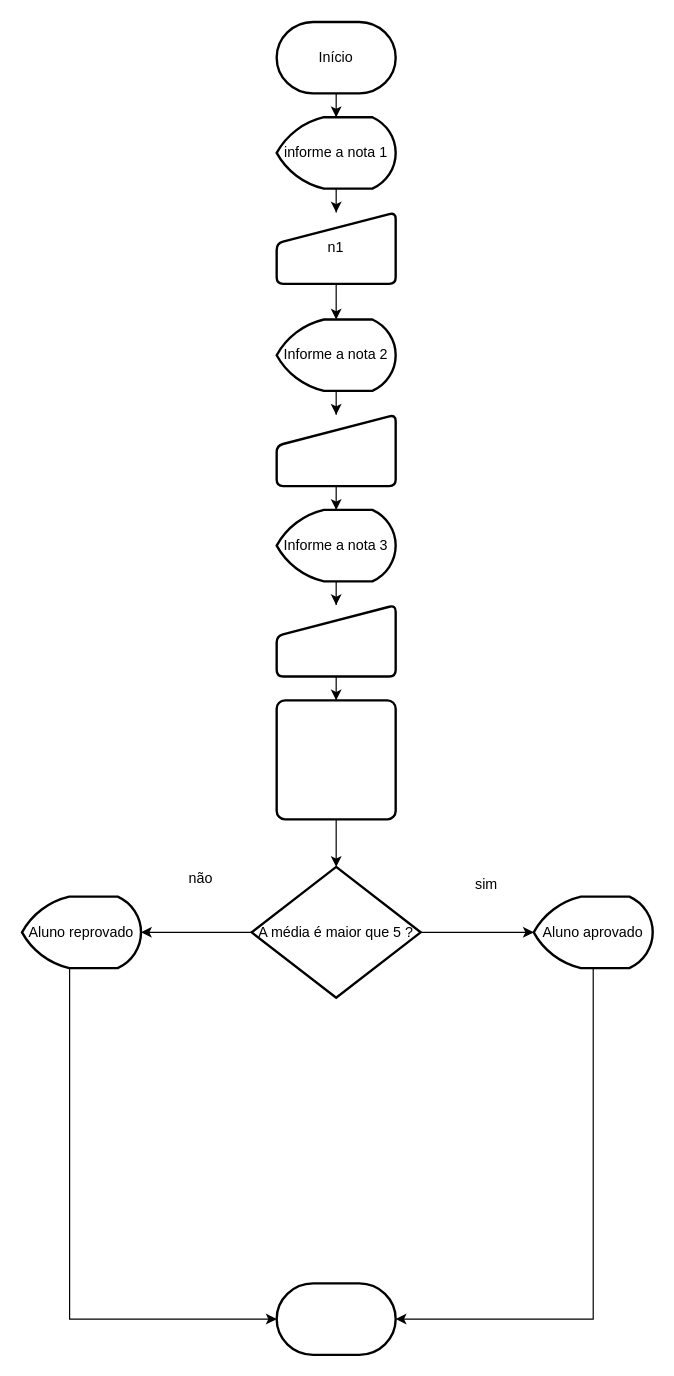
Some shapes in this 674 by 1376 pixel diagram are drawn without their labels. The centre of each missing label's shape, as x and y in pixels:
(n1 + n2 + n3) /3: the point at 335,759
Fim: the point at 335,1318
n2: the point at 335,450
n3: the point at 335,640
